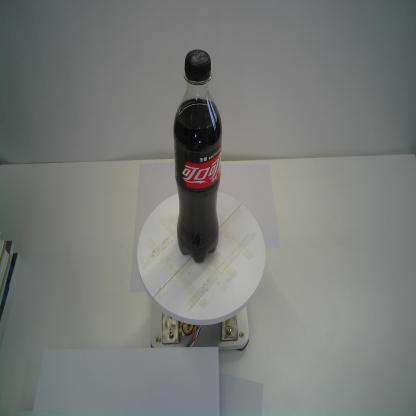Drink: (172, 48, 223, 264)
